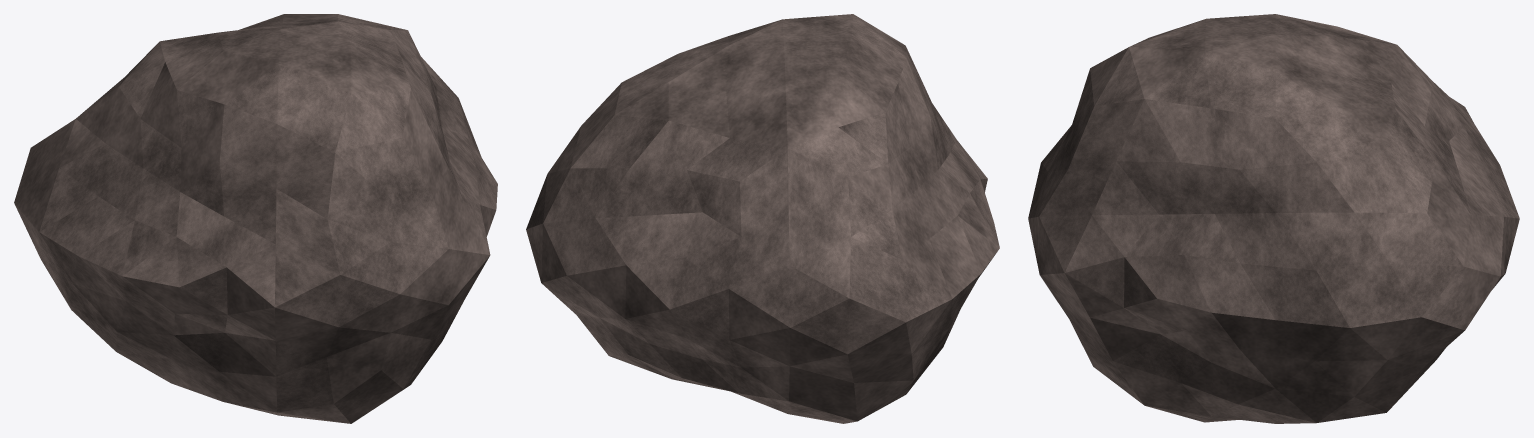
The model's file is Asteroid_Warm_Industrial.glb.
The picture shows the model from 3 angles, left to right: view 1: azimuth 30°, elevation 25°; view 2: azimuth 150°, elevation 25°; view 3: azimuth 270°, elevation 25°; orthographic projection. The views are drawn at different scales.
Visible parts, largest first — view 1: Fractured rock; view 2: Fractured rock; view 3: Fractured rock.
Part boxes in pixels (bbox=[...]): Fractured rock: bbox=[14, 14, 497, 423]; Fractured rock: bbox=[526, 14, 999, 423]; Fractured rock: bbox=[1028, 14, 1519, 423].
Size of the model in its own units: 2.03 by 1.64 by 1.97.
Materials: 1 (1 with a texture image).
